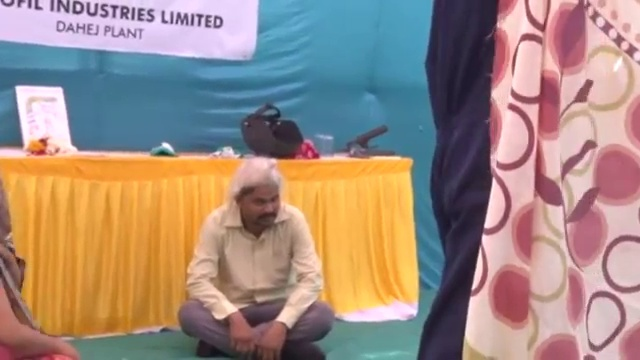helmet_off: (231, 160, 283, 232)
person: (173, 156, 337, 360), (416, 1, 501, 360)
